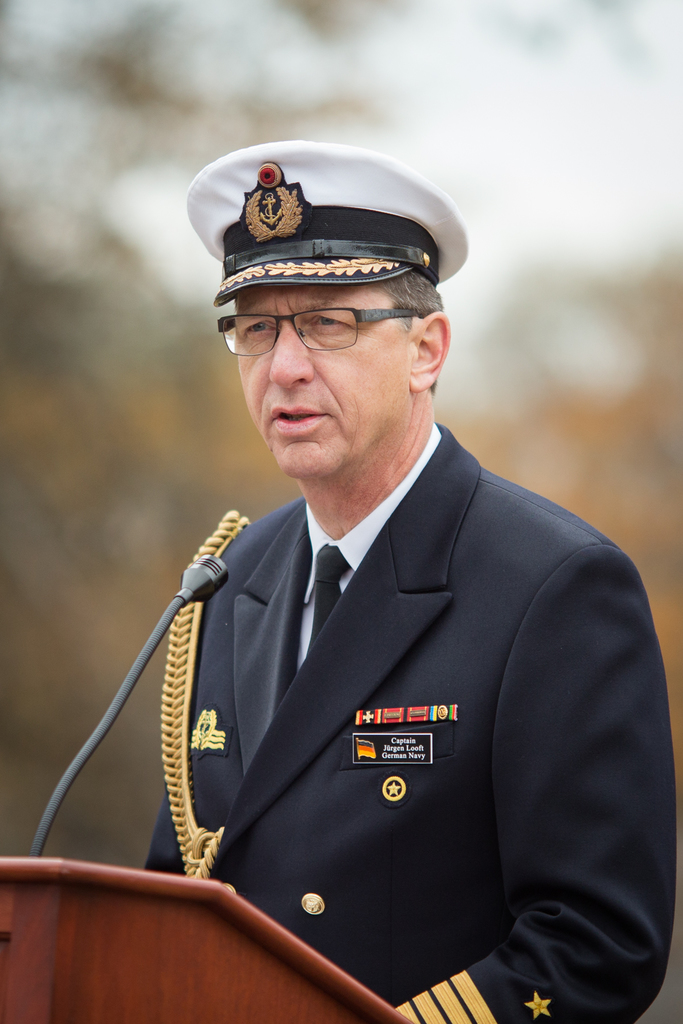Person: (0, 137, 682, 1024)
